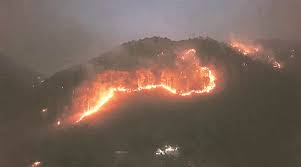fire: (66, 74, 149, 130), (144, 60, 231, 100), (225, 36, 297, 71)
